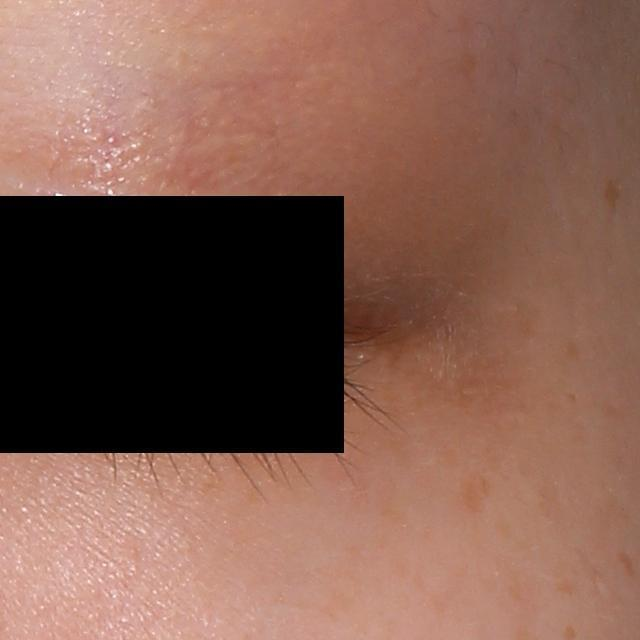melasma: (371, 472, 411, 529), (456, 466, 490, 514), (612, 548, 638, 580), (550, 574, 581, 597)
